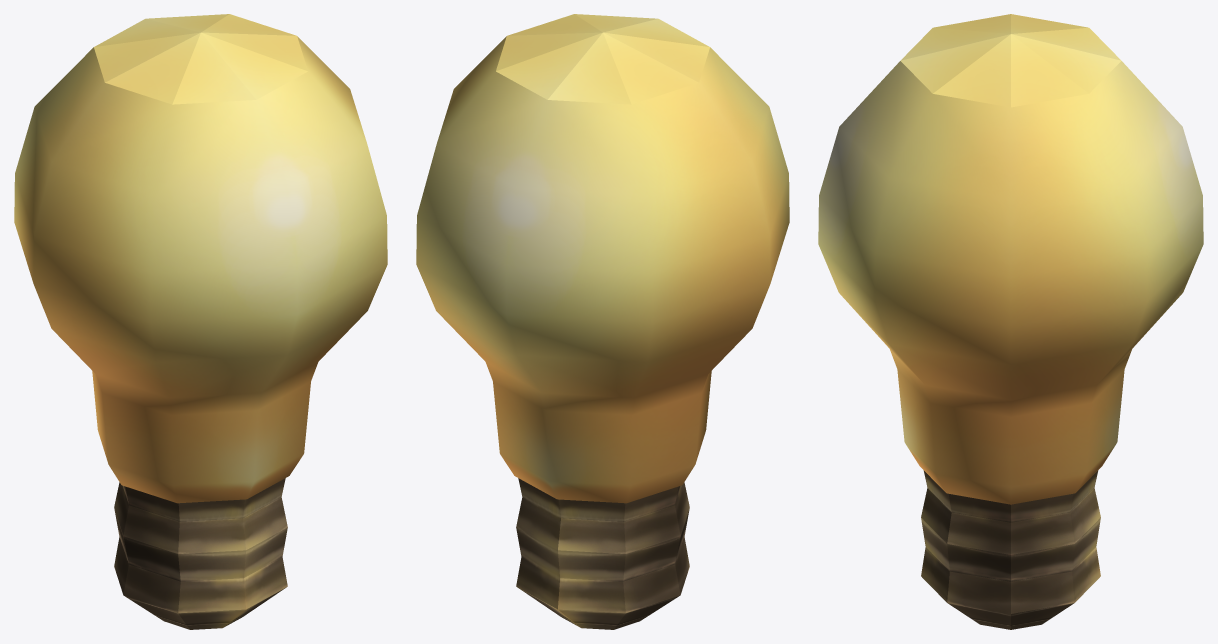
File: 29_electric bulb.FBX
The picture shows the model from 3 angles, left to right: view 1: azimuth 30°, elevation 25°; view 2: azimuth 150°, elevation 25°; view 3: azimuth 270°, elevation 25°; orthographic projection.
Parts seen in each view (by area): view 1: 29_electric bulb; view 2: 29_electric bulb; view 3: 29_electric bulb.
Part boxes in pixels (bbox=[...]): 29_electric bulb: bbox=[14, 14, 387, 629]; 29_electric bulb: bbox=[416, 14, 789, 629]; 29_electric bulb: bbox=[818, 14, 1203, 629].
Bounding box in the file's own units: 30.11 × 49.82 × 30.11.
